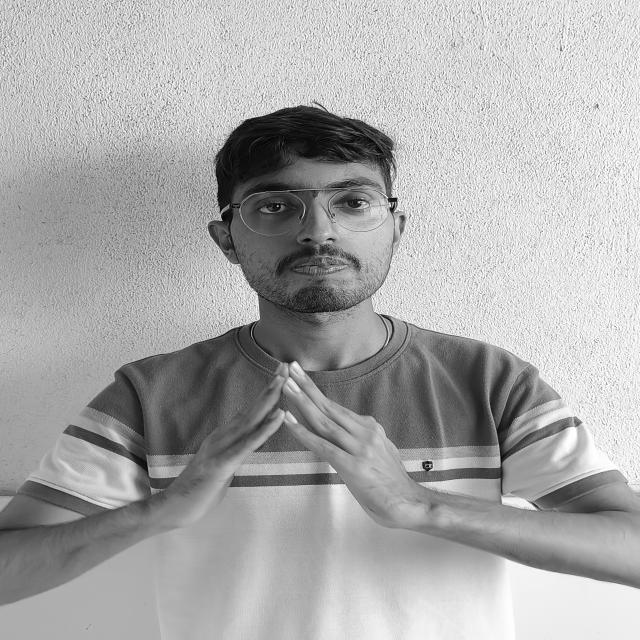Home: (137, 352, 460, 556)
